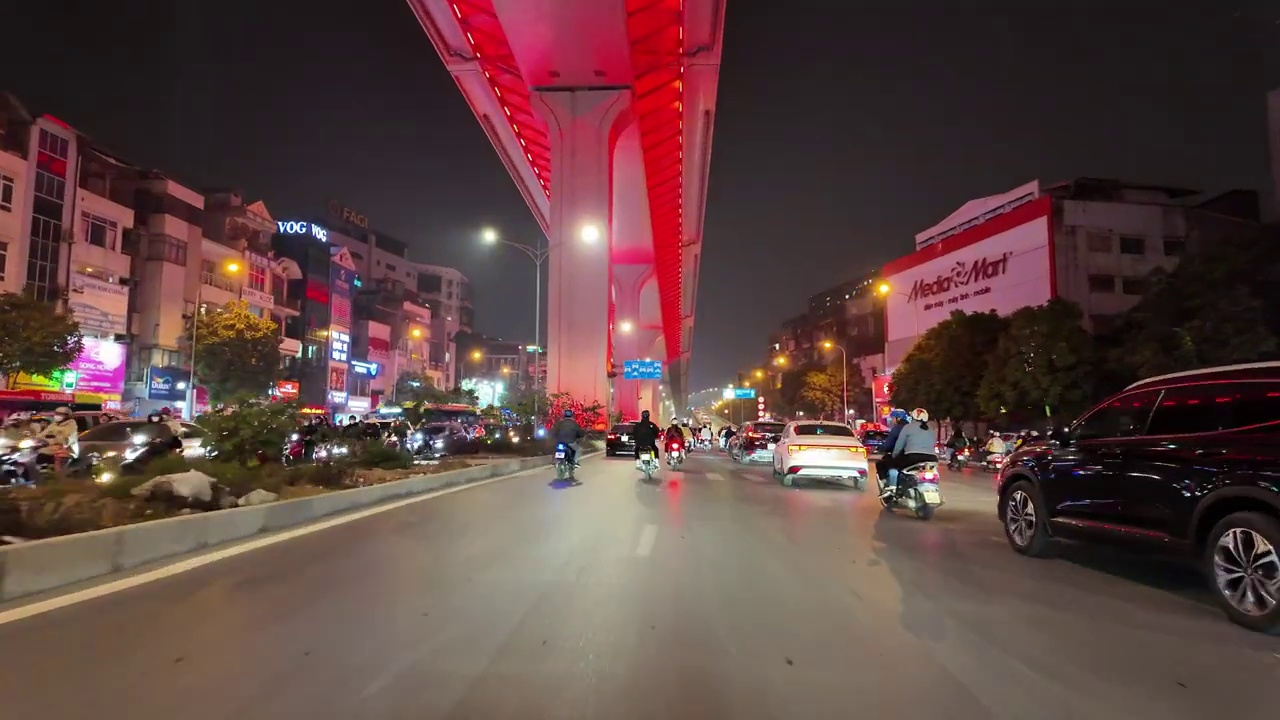acesa: (571, 219, 607, 253), (476, 224, 503, 250), (869, 274, 894, 302), (220, 256, 246, 280)
